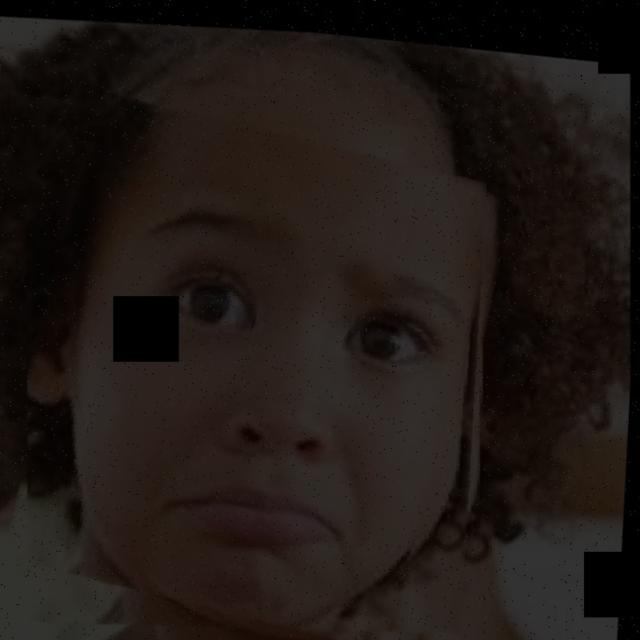Sad: (89, 95, 506, 622)
